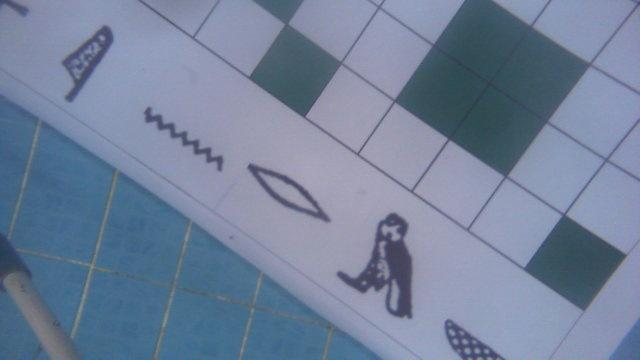Basket: (438, 313, 517, 360)
Mouth: (244, 156, 333, 228)
Owl: (337, 205, 418, 325)
Reed: (62, 21, 119, 104)
Water: (142, 102, 225, 175)
